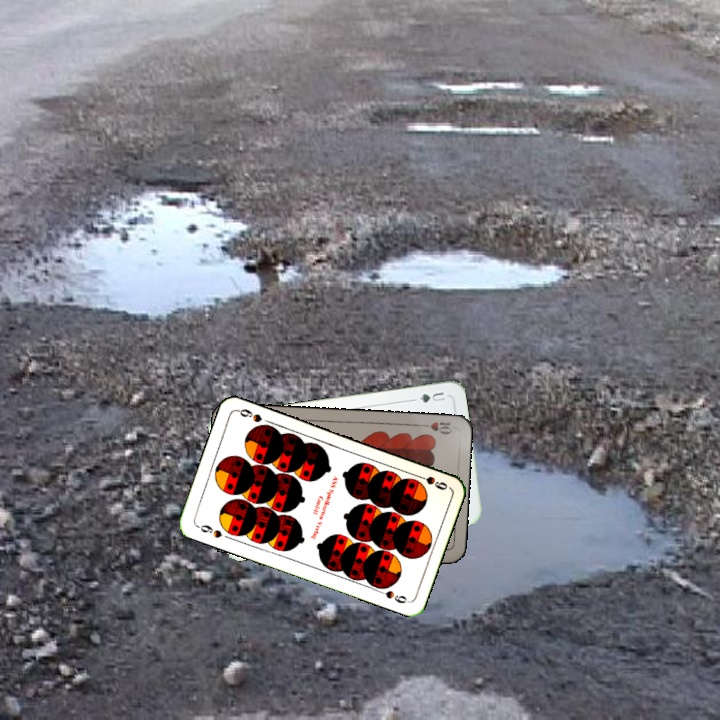GU: (415, 388, 447, 405)
H10: (415, 418, 454, 437)
S9: (411, 470, 450, 492), (193, 520, 225, 541)
